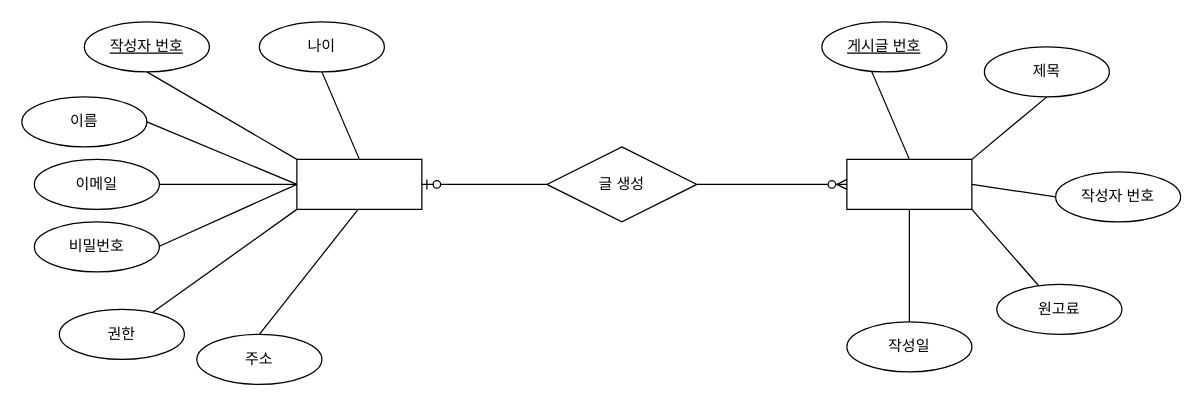
Some shapes in this 1203 by 406 pixel diagram are drawn without their labels. Each missing label, with the centre of its shape:
"게시글" belongs at point (909, 183).
"작성자" belongs at point (359, 183).
